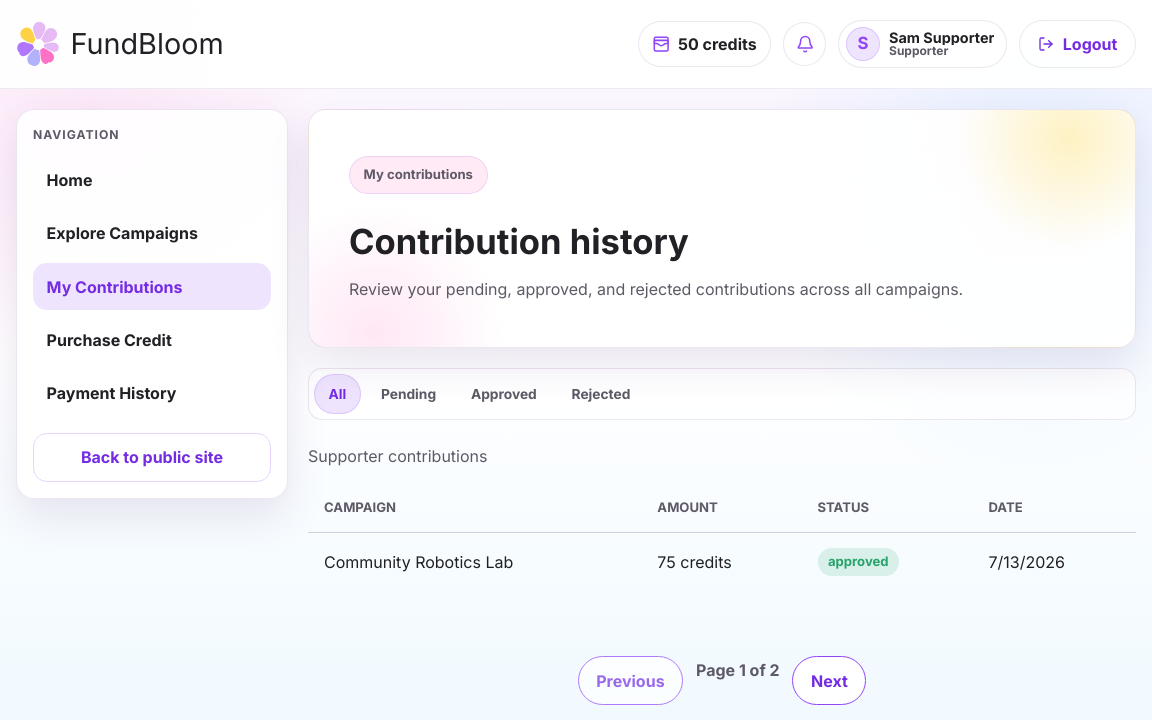
Test case: supporter contributions page › renders contributions, handles status filters, and supports pagination
Expected: the heading "Contribution history" is shown, [349,214,722,263]
Expected: the text "Community Robotics Lab" is shown, [308,533,641,591]
Step 1. Click the button "Next" → (829, 680), box [792,656,866,705]
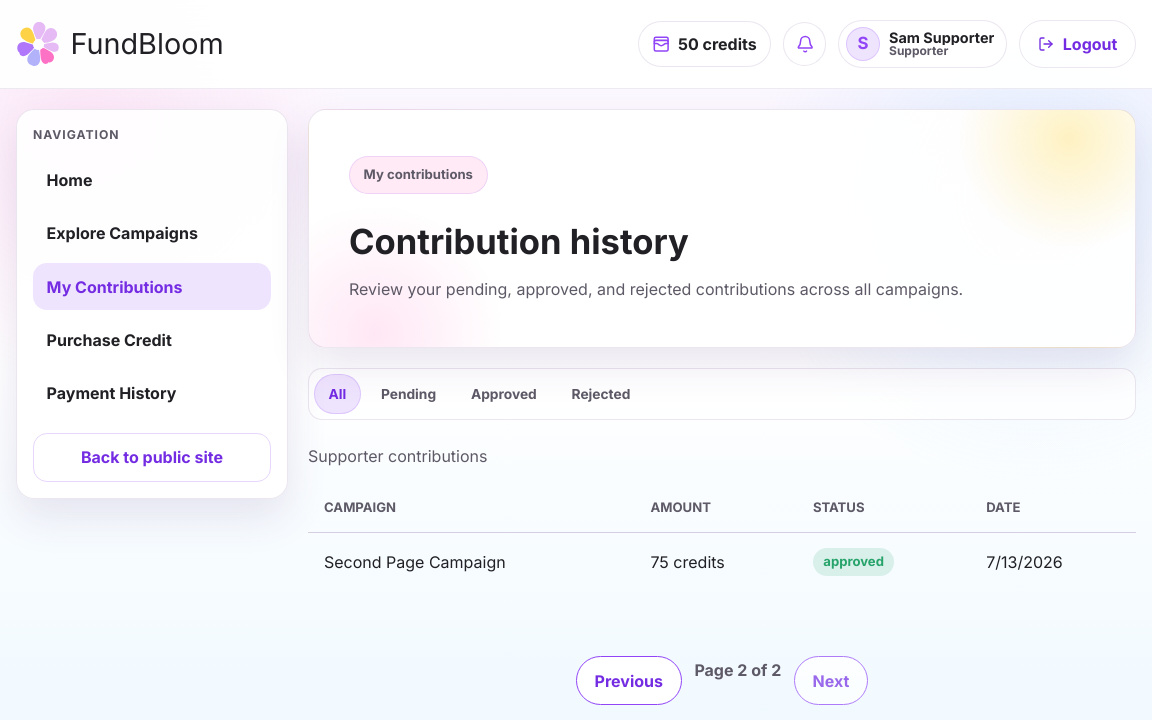
Now the text "Second Page Campaign" is shown, box [308,533,634,591]
Step 2. Click the tab "Pending" → (408, 394), box [366,374,451,414]
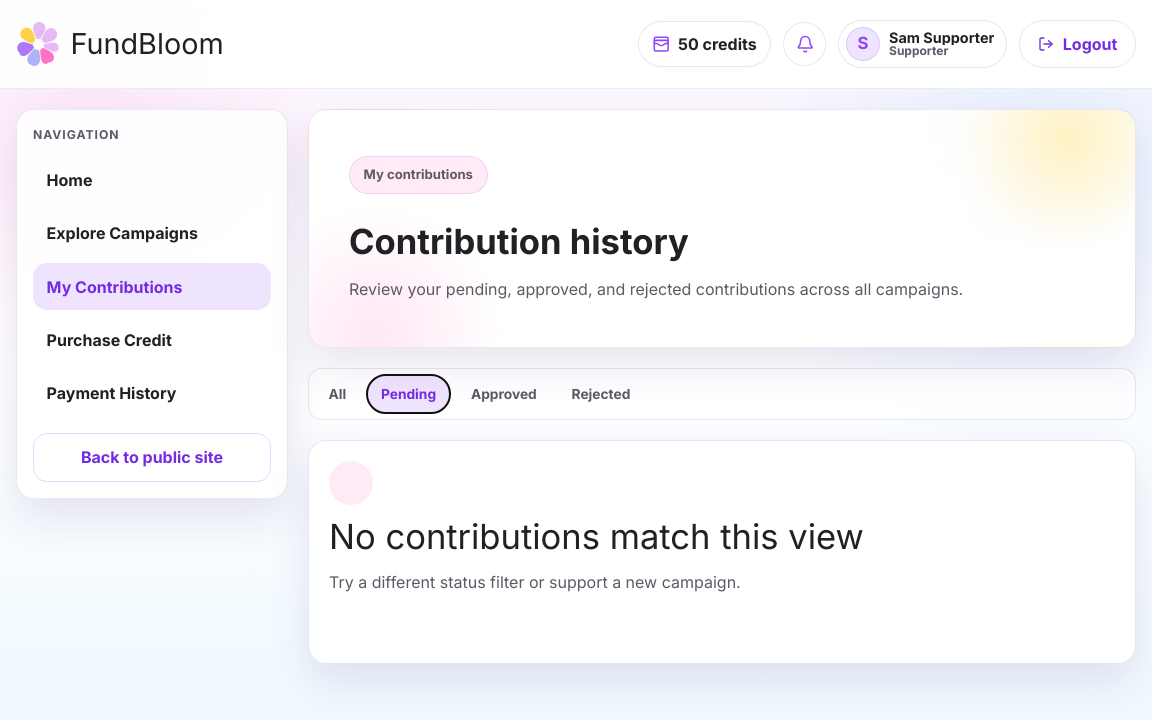
Now the heading "No contributions match this view" is shown, box [329,516,864,557]
